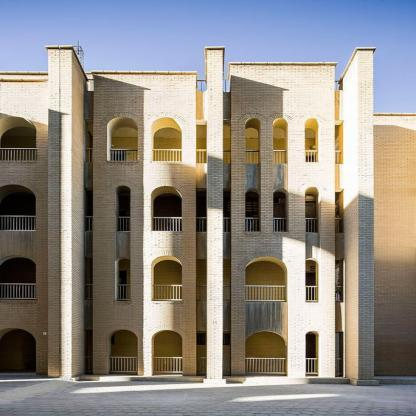Balcony: (86, 285, 344, 303), (85, 216, 343, 233), (86, 148, 343, 164), (86, 79, 344, 93)
Building Outline: (58, 40, 380, 386)
Door: (303, 272, 322, 302), (108, 271, 127, 301), (108, 150, 127, 177)
Facade: (58, 40, 381, 386)
Floor Slab: (86, 301, 344, 312), (86, 163, 344, 173), (85, 232, 343, 241), (86, 92, 344, 100)
Window: (245, 257, 288, 302), (246, 331, 287, 376), (150, 185, 183, 232), (151, 329, 183, 376), (151, 256, 183, 301), (107, 329, 138, 375), (150, 117, 182, 161), (107, 117, 138, 161), (305, 331, 322, 377), (115, 185, 131, 232), (305, 186, 321, 233), (245, 118, 261, 163), (273, 188, 289, 232), (273, 118, 288, 164), (245, 188, 260, 232), (115, 257, 130, 301), (305, 118, 319, 164), (305, 258, 319, 302), (197, 333, 231, 345), (90, 332, 115, 345)
